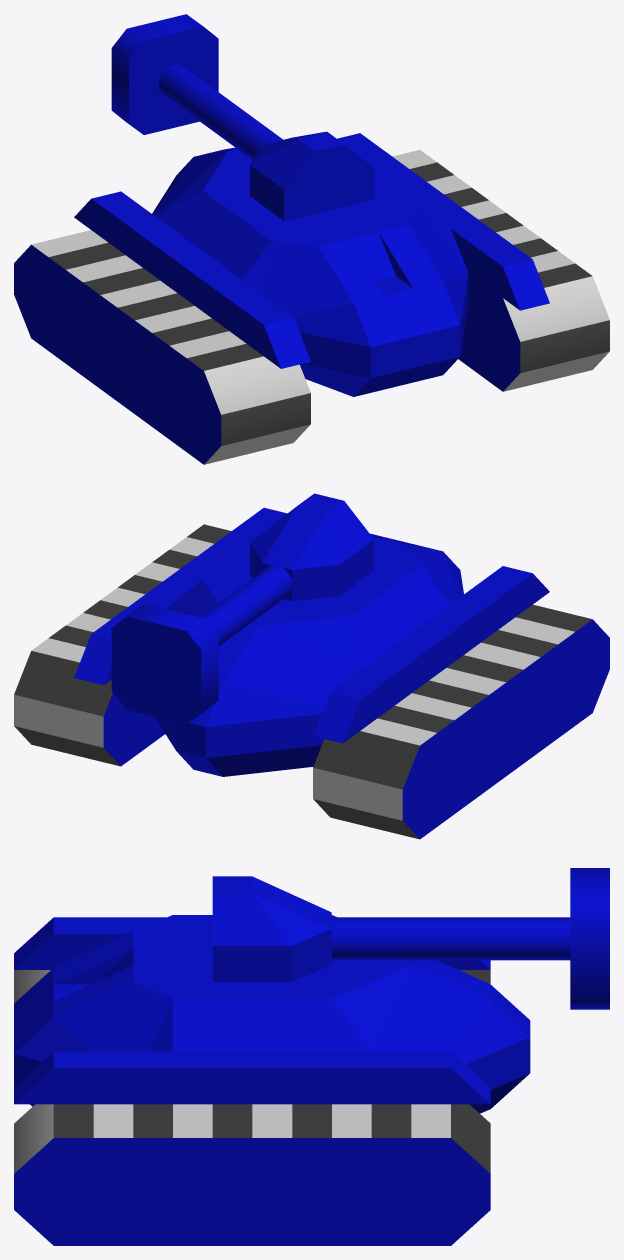
File: enemyC.fbx
The picture shows the model from 3 angles, top to bottom: view 1: azimuth 30°, elevation 25°; view 2: azimuth 150°, elevation 25°; view 3: azimuth 270°, elevation 25°; orthographic projection. The views are drawn at different scales.
Visible parts, largest first — view 1: enemyC; view 2: enemyC; view 3: enemyC.
Part boxes in pixels (x1=…): enemyC: x1=14, y1=14, x2=609, y2=464; enemyC: x1=14, y1=493, x2=609, y2=839; enemyC: x1=14, y1=868, x2=609, y2=1245.
Bounding box in the file's own units: 1.62 × 0.875 × 1.88.
